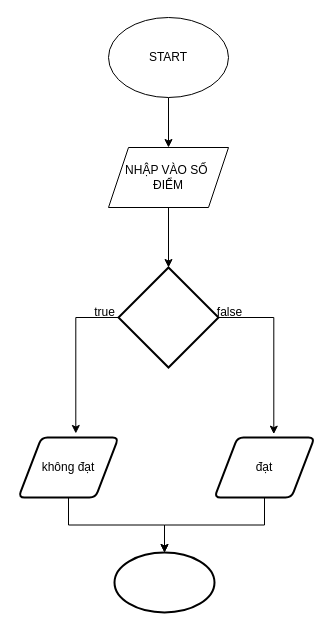
Some shapes in this 332 by 631 pixel diagram are drawn without their labels. Here are the shapes that lost their labels. From the top down, the box of each, then its label:
(117, 266, 219, 368): ĐIỂM < 5
(113, 551, 215, 613): END
